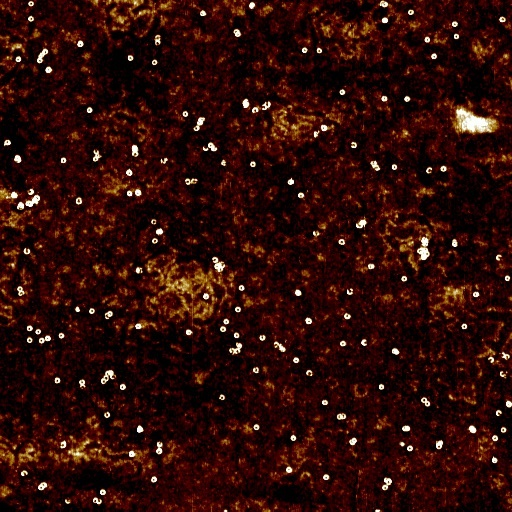-1: (454, 104, 493, 138), (271, 339, 287, 355), (416, 247, 432, 262), (102, 369, 118, 384), (230, 342, 247, 356), (25, 196, 40, 211), (38, 480, 50, 493), (387, 345, 400, 357), (292, 286, 304, 298), (214, 262, 226, 274), (353, 219, 367, 229), (14, 202, 26, 213), (241, 96, 251, 109), (135, 423, 146, 434), (12, 156, 23, 167), (134, 265, 145, 276), (233, 27, 243, 39), (9, 190, 19, 201), (349, 435, 358, 447), (154, 229, 165, 237), (378, 17, 389, 25), (246, 2, 257, 10), (367, 261, 376, 270), (72, 306, 82, 314), (220, 158, 228, 168), (419, 237, 429, 245), (197, 117, 206, 125), (129, 146, 140, 152), (311, 130, 318, 139), (286, 178, 294, 185), (450, 240, 458, 247), (399, 438, 406, 446), (37, 53, 46, 59), (373, 507, 383, 510)
1/4: (200, 145, 209, 154), (102, 310, 109, 321), (153, 34, 163, 40), (313, 228, 319, 237), (382, 473, 387, 482), (501, 349, 505, 357)
2/4: (264, 97, 274, 112), (359, 335, 370, 348), (304, 365, 315, 378), (63, 496, 73, 507), (498, 368, 508, 378), (494, 407, 503, 417), (158, 158, 169, 166), (25, 189, 35, 197), (486, 355, 496, 363), (345, 286, 355, 294), (258, 103, 265, 114), (495, 253, 503, 261), (78, 385, 88, 391), (91, 150, 100, 156), (505, 352, 510, 360)
3/4: (341, 308, 353, 322), (22, 247, 34, 257), (257, 332, 268, 342), (20, 469, 30, 479), (59, 439, 69, 449), (103, 411, 113, 421), (218, 393, 228, 403), (77, 377, 88, 386), (252, 364, 261, 375), (377, 0, 389, 8), (130, 153, 142, 160), (210, 254, 219, 263), (183, 177, 191, 187), (424, 166, 432, 176), (250, 106, 258, 115), (348, 141, 357, 149), (17, 292, 25, 300), (191, 126, 201, 132), (367, 159, 377, 165), (156, 440, 164, 447), (92, 497, 99, 504), (97, 499, 104, 506), (154, 41, 161, 48)
4/4: (433, 437, 447, 451), (283, 464, 294, 476), (73, 196, 83, 209), (377, 379, 386, 393), (252, 421, 262, 433), (124, 168, 134, 179), (148, 218, 159, 228), (490, 453, 500, 464), (291, 354, 301, 365), (58, 156, 67, 168), (150, 475, 160, 485), (180, 109, 190, 119), (125, 54, 135, 64), (2, 139, 13, 148), (319, 399, 330, 408), (338, 338, 350, 346), (99, 487, 108, 497), (128, 449, 137, 459), (24, 324, 34, 333), (15, 283, 24, 293), (318, 123, 328, 132), (304, 315, 314, 324), (234, 305, 244, 314), (155, 448, 166, 456), (185, 328, 196, 336), (288, 435, 300, 442), (44, 66, 53, 75), (299, 45, 308, 54), (134, 189, 143, 198), (379, 94, 388, 103), (400, 273, 409, 282), (449, 19, 458, 28), (472, 289, 481, 298), (499, 424, 508, 433), (203, 291, 212, 300), (233, 331, 242, 340), (198, 9, 208, 17), (429, 52, 437, 62), (490, 434, 500, 442), (406, 443, 416, 451), (119, 383, 128, 391), (26, 336, 34, 345), (134, 323, 143, 331), (85, 107, 93, 116), (125, 191, 134, 199), (76, 40, 84, 49), (402, 95, 411, 103), (422, 35, 430, 44), (504, 273, 512, 282), (424, 399, 432, 408), (334, 411, 342, 420), (219, 326, 228, 334), (108, 309, 116, 318), (26, 1, 35, 9), (58, 331, 65, 341), (150, 60, 160, 67), (322, 474, 332, 481), (342, 409, 348, 420), (38, 337, 46, 345), (338, 238, 346, 246), (224, 317, 232, 325), (150, 239, 159, 246), (15, 55, 22, 64), (405, 9, 414, 16), (387, 476, 394, 485), (88, 308, 95, 316), (27, 16, 35, 23), (249, 160, 256, 168), (315, 47, 323, 54), (439, 165, 447, 172), (452, 33, 460, 40), (505, 400, 512, 408), (381, 484, 389, 491), (239, 284, 246, 292), (55, 376, 61, 385), (497, 16, 506, 22), (42, 48, 49, 55), (461, 322, 468, 329), (337, 89, 345, 95), (296, 192, 304, 198), (419, 395, 427, 401), (45, 336, 52, 342), (35, 330, 41, 337), (91, 158, 97, 165), (36, 59, 43, 65), (390, 164, 397, 170)
